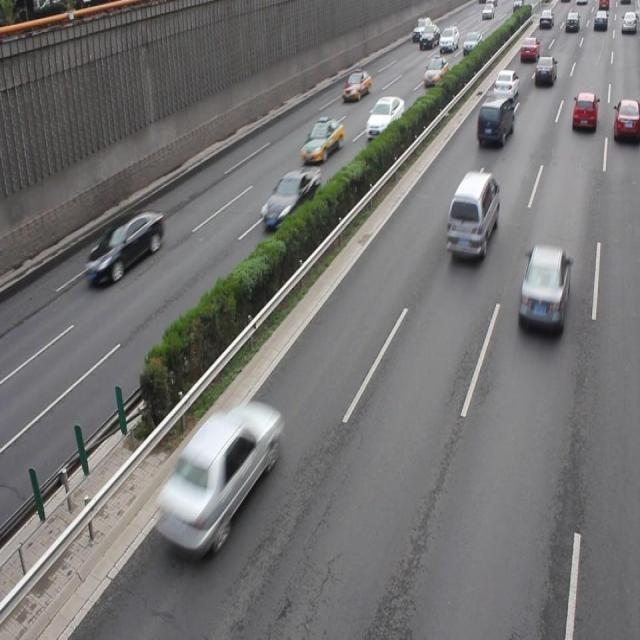car: (154, 400, 281, 556), (84, 210, 164, 286), (517, 242, 569, 335), (260, 166, 320, 232), (300, 117, 343, 164), (475, 95, 513, 148), (365, 96, 403, 141), (611, 97, 640, 145)
truck: (443, 170, 499, 261)
